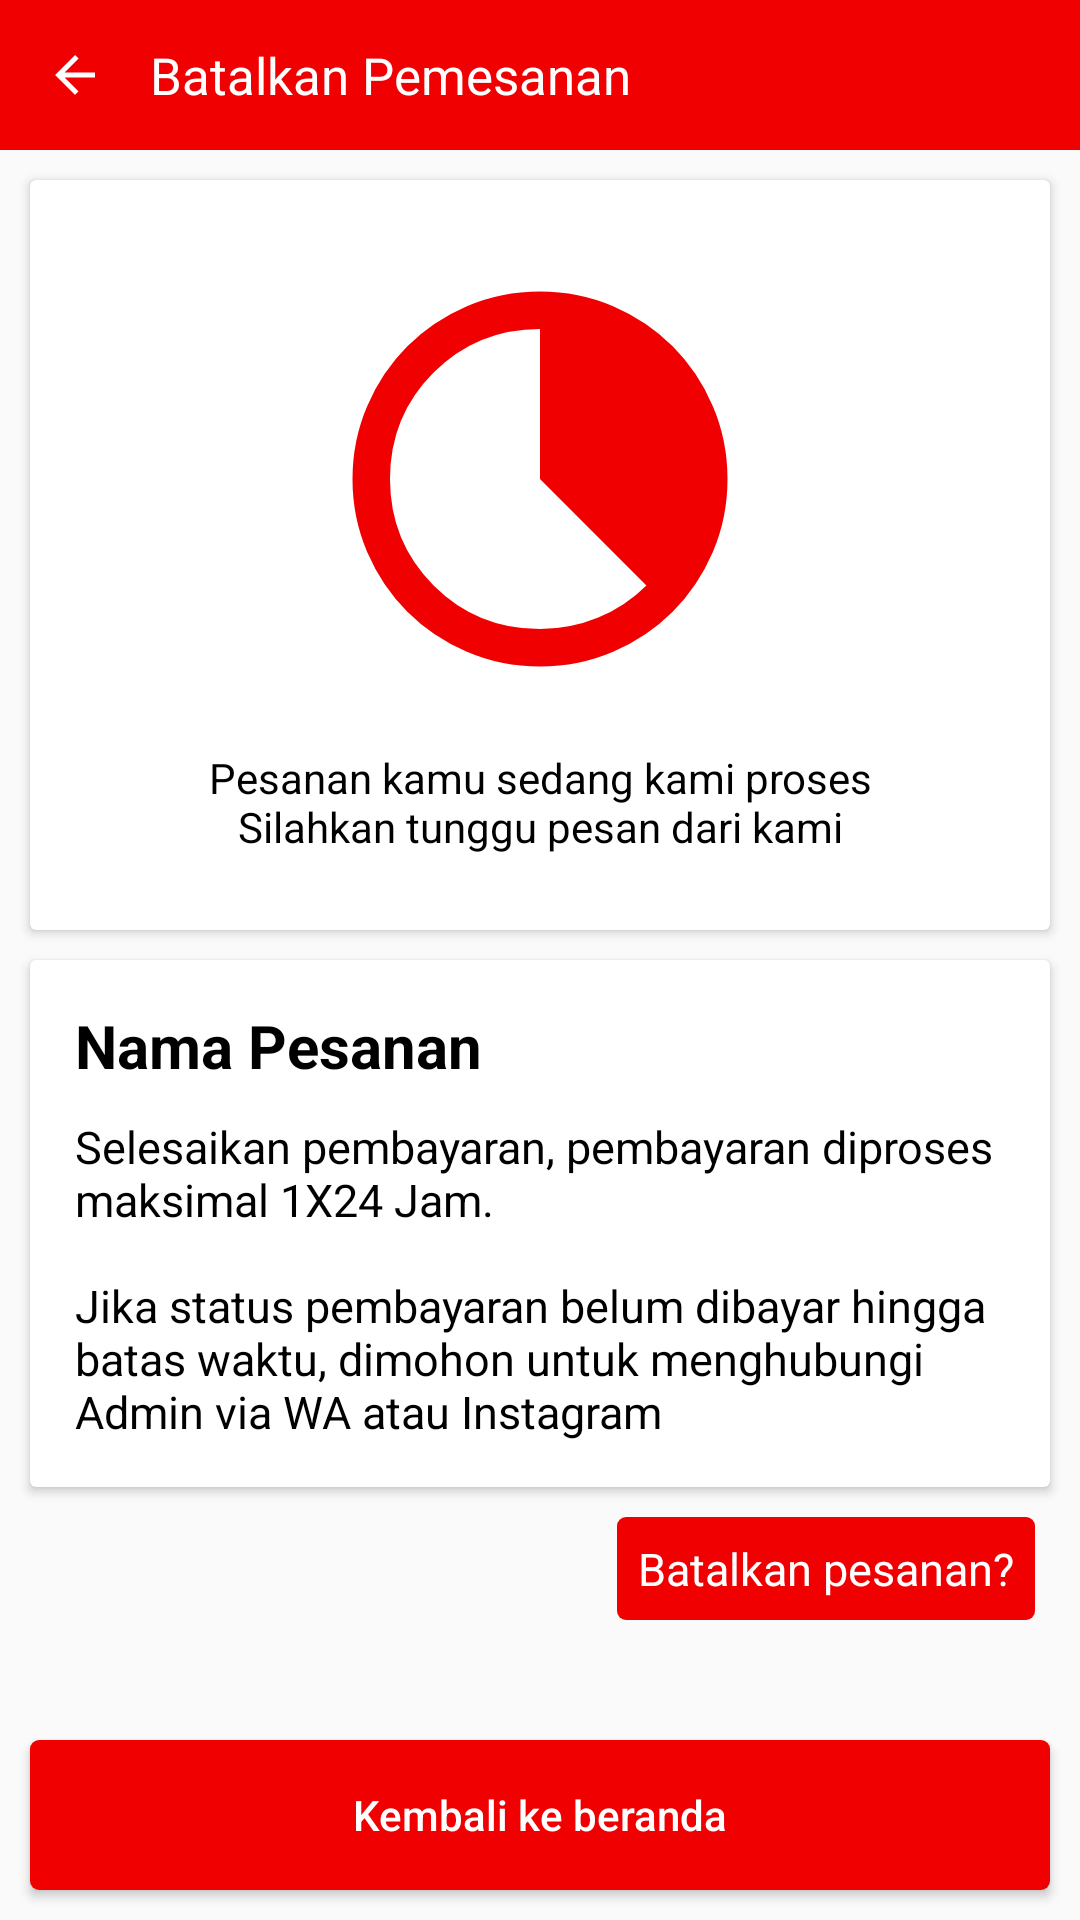

Icon bounding boxes for this 1080w x 1920h phone screenshot, format region(x1, y1, x2, y2):
back: region(55, 55, 95, 95)
